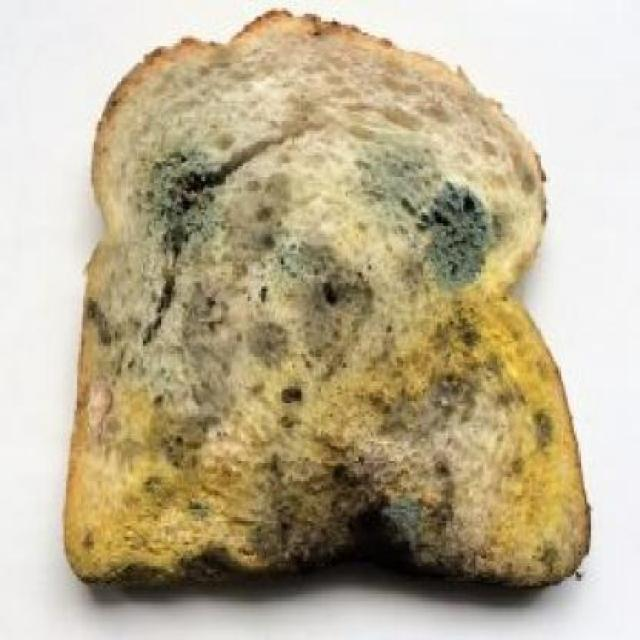mold_bread: (361, 139, 498, 279), (265, 457, 433, 557), (369, 302, 493, 426), (278, 241, 376, 363), (120, 141, 227, 238), (150, 367, 237, 486), (510, 382, 566, 463), (181, 495, 218, 525)
